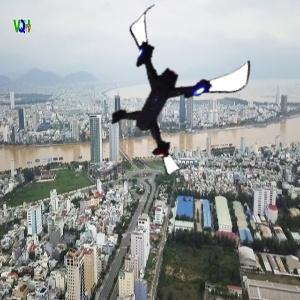drone: (93, 13, 239, 159)
